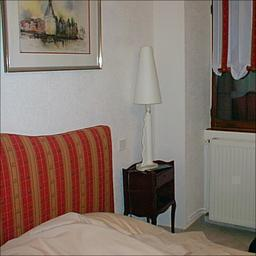Cama: (0, 130, 255, 255)
